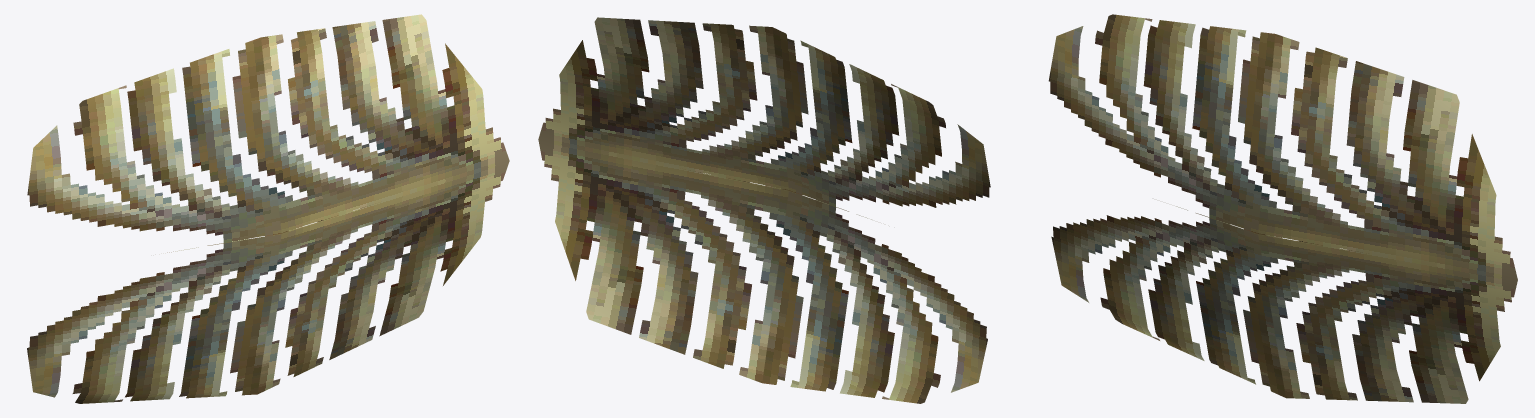
3 views of the same model, side by side, from view 1: azimuth 30°, elevation 25°; view 2: azimuth 150°, elevation 25°; view 3: azimuth 330°, elevation 25° (orthographic). The views are drawn at different scales.
Parts seen in each view (by area): view 1: it212; view 2: it212; view 3: it212.
Part boxes in pixels (<box>): it212: <box>27,14,509,403</box>; it212: <box>538,17,990,403</box>; it212: <box>1048,14,1517,403</box>.
Bounding box in the file's own units: 2.6 × 1.86 × 0.3379.
1 material, 1 textured.
